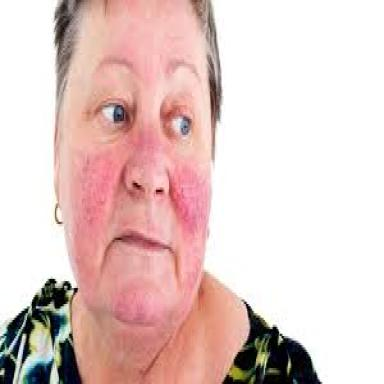burn: (61, 133, 210, 315), (104, 0, 193, 90), (107, 317, 187, 382), (67, 232, 122, 314), (109, 283, 168, 322), (86, 89, 135, 132), (161, 90, 196, 145)
